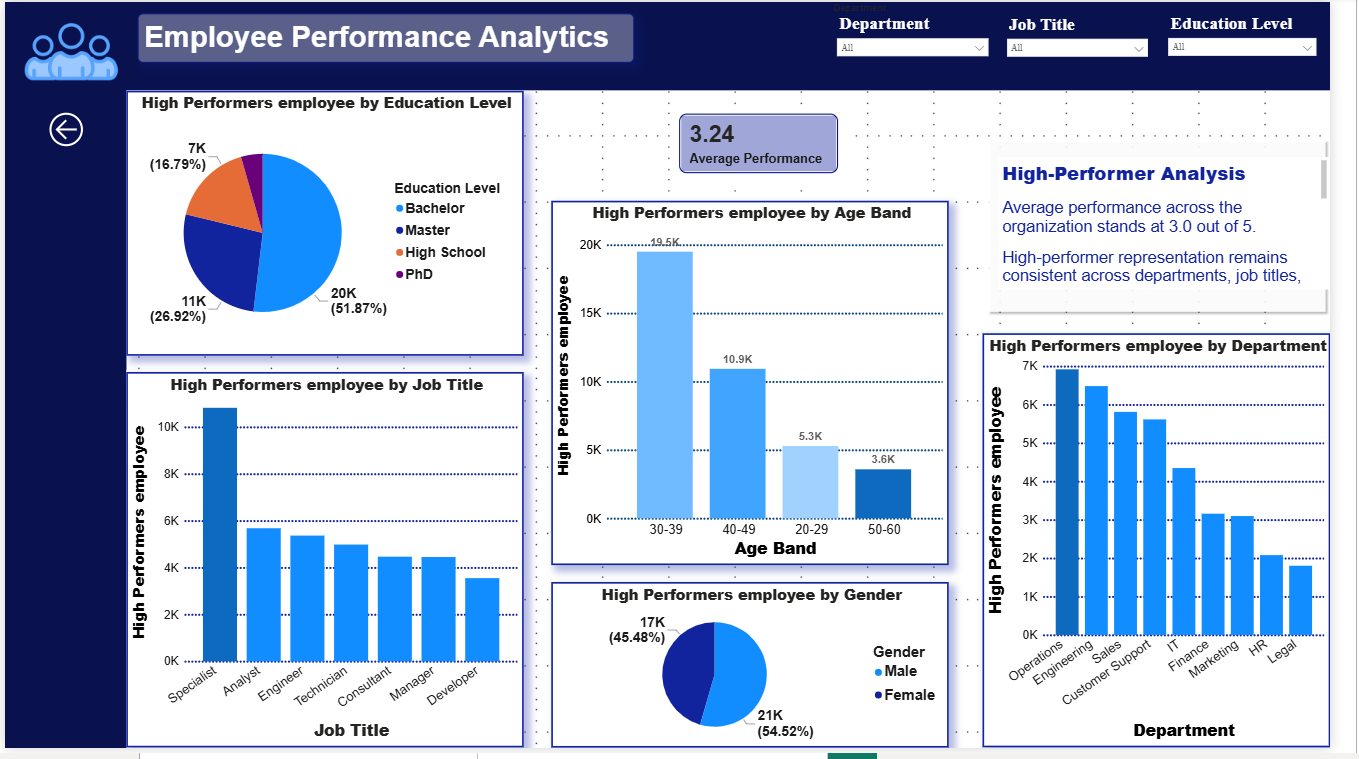

What the dashboard file says about the page in this screenshot:
{"tool":"powerbi","page":{"name":" page 2 ( Employee Performance Dashboard)","canvas":[1920,1080],"ordinal":1},"visuals":[{"type":"shape","box":[-480,0,2400,128],"z":0},{"type":"slicer","fields":{"Values":["Dim_Education.Education_Level"]},"box":[1680,16,224,96],"z":0,"group":"g1"},{"type":"shape","box":[0,0,176,1088],"z":1000},{"type":"slicer","fields":{"Values":["Dim_JobTitle.Job_Title"]},"box":[1440,12.4,224,80],"z":1000,"group":"g1"},{"type":"group","id":"g1","title":"Group 1","box":[1200,0,696,120],"z":2000},{"type":"image","box":[0,0,192,144],"z":3000},{"type":"slicer","title":"Department","fields":{"Values":["Dim_Department.Department"]},"box":[1200,0,228.8,103.2],"z":4000,"group":"g1"},{"type":"textbox","box":[192,16,720,72],"z":4000},{"type":"actionButton","box":[48,144,80,80],"z":5000},{"type":"shape","box":[1416,192,504,264],"z":6000},{"type":"clusteredColumnChart","title":"High Performers employee by Age Band","fields":{"Category":["Fact_Employee_Performance.Age_Band"],"Y":["Dim_Education.High Performers employee"]},"box":[792,288,576,528],"z":7000},{"type":"pieChart","fields":{"Category":["Fact_Employee_Performance.Gender"],"Y":["Dim_Education.High Performers employee"]},"box":[792,840,576,240],"z":8000},{"type":"clusteredColumnChart","title":"High Performers employee by Job Title","fields":{"Category":["Dim_JobTitle.Job_Title"],"Y":["Dim_Education.High Performers employee"]},"box":[176,536,576,544],"z":9000},{"type":"clusteredColumnChart","fields":{"Category":["Dim_Department.Department"],"Y":["Dim_Education.High Performers employee"]},"box":[1416,480,504,600],"z":10000},{"type":"pieChart","title":"High Performers employee by Education Level","fields":{"Category":["Fact_Employee_Performance.Education_Level"],"Y":["Dim_Education.High Performers employee"]},"box":[176,128,576,384],"z":11000},{"type":"textbox","box":[1440,224,480,192],"z":12000},{"type":"cardVisual","fields":{"Data":["Measures (2).Average Performance"]},"box":[960,144,264,120],"z":13000}]}

Visuals, with their boxes in screenshot pixels (x1, y1, x2, y2), scaled from the page's 1920x1080 canvas onto the 1359x759 screenshot:
shape: x1=0 y1=0 x2=1358 y2=90
slicer - Dim_Education.Education_Level: x1=1189 y1=11 x2=1348 y2=79
shape: x1=0 y1=0 x2=125 y2=758
slicer - Dim_JobTitle.Job_Title: x1=1019 y1=9 x2=1178 y2=65
"Group 1" group: x1=849 y1=0 x2=1342 y2=84
image: x1=0 y1=0 x2=136 y2=101
"Department" slicer: x1=849 y1=0 x2=1011 y2=73
textbox: x1=136 y1=11 x2=646 y2=62
actionButton: x1=34 y1=101 x2=91 y2=157
shape: x1=1002 y1=135 x2=1358 y2=320
"High Performers employee by Age Band" clusteredColumnChart: x1=561 y1=202 x2=968 y2=573
pieChart - Fact_Employee_Performance.Gender x Dim_Education.High Performers employee: x1=561 y1=590 x2=968 y2=758
"High Performers employee by Job Title" clusteredColumnChart: x1=125 y1=377 x2=532 y2=758
clusteredColumnChart - Dim_Department.Department x Dim_Education.High Performers employee: x1=1002 y1=337 x2=1358 y2=758
"High Performers employee by Education Level" pieChart: x1=125 y1=90 x2=532 y2=360
textbox: x1=1019 y1=157 x2=1358 y2=292
cardVisual - Measures (2).Average Performance: x1=680 y1=101 x2=866 y2=186
